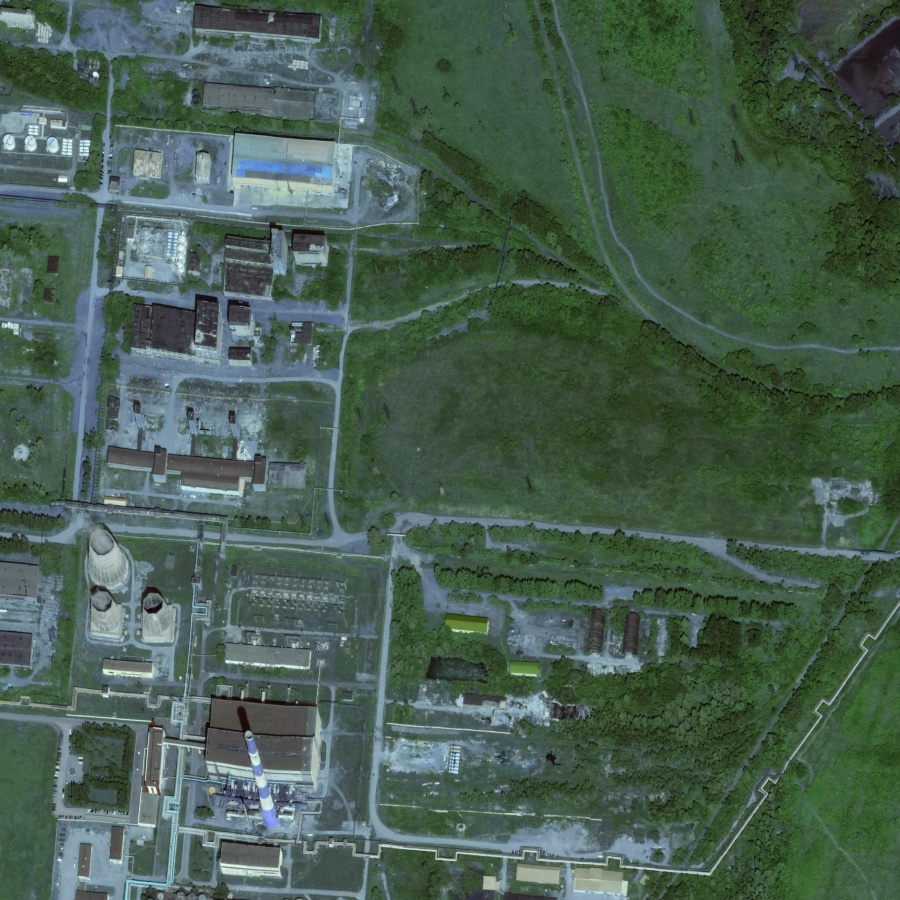PowerPlant: (59, 519, 352, 878)
